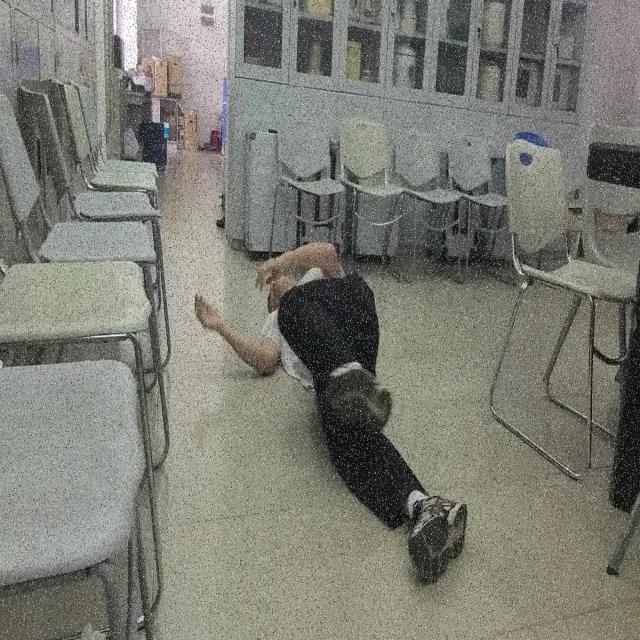fall: (194, 240, 470, 592)
